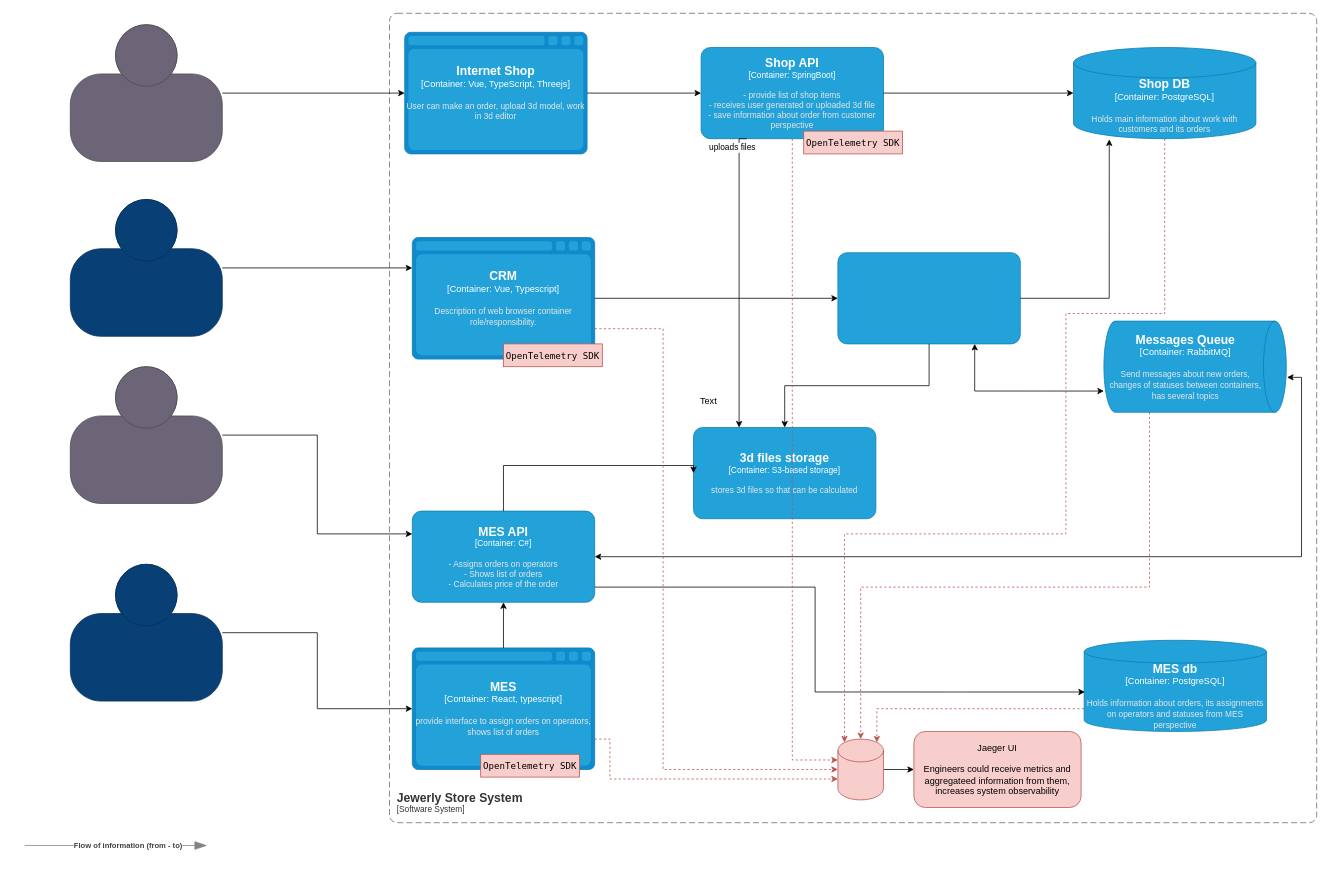
This 1330x871 diagram has some shape labels left out. The shapes that lost their labels are listed below. From the top down, each one's centre as x and y in pixels, then its label:
the point at 146,93: Customer [Person] Description of external person.
the point at 146,267: Seller [Person] Operates with order, confirms manufacturing for the user
the point at 928,298: CRM API [Container: SpringBoot] Description of container role/responsibility.
the point at 146,435: API user [Person] Description of external person.
the point at 146,632: Operator [Person] Takes order in work, manufactures jewerly
the point at 860,769: Jaeger
